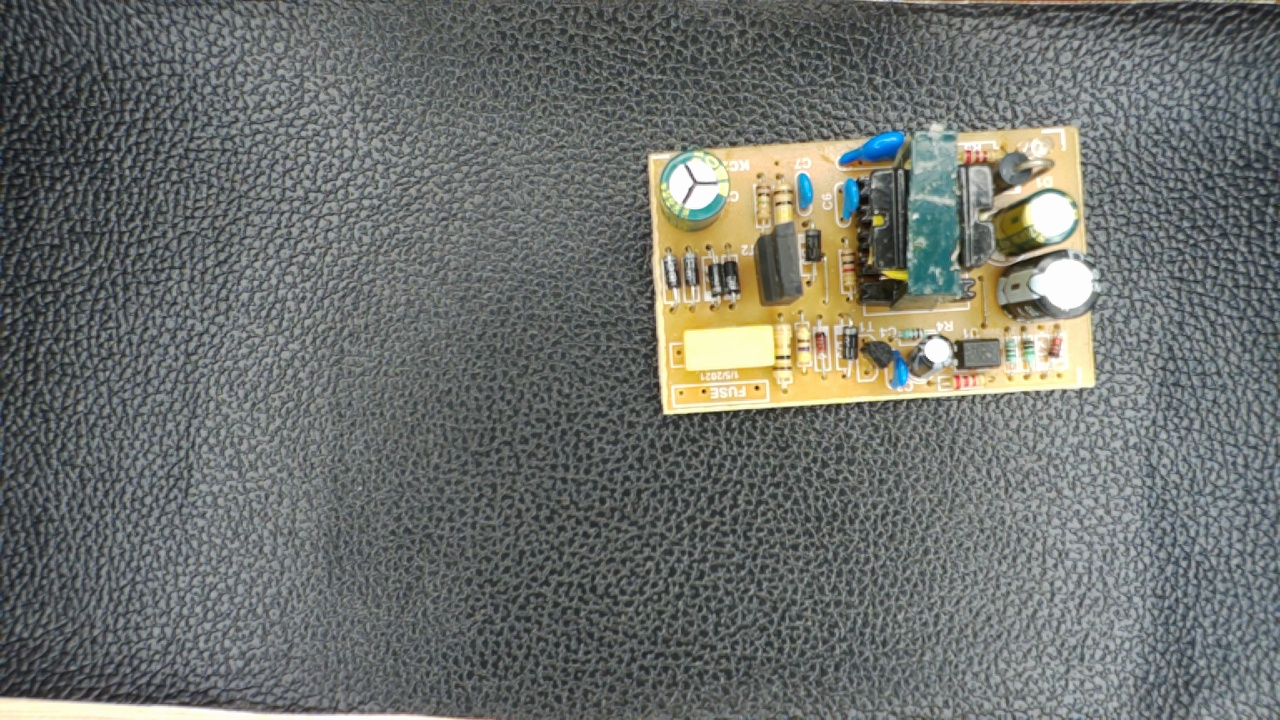hv_capacitor: (656, 152, 732, 230)
mov: (831, 132, 920, 170)
optocoupler: (947, 330, 1007, 374)
